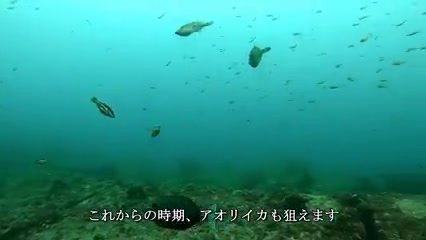kawahagi: (243, 41, 271, 66)
smallfish: (86, 93, 121, 124), (172, 17, 218, 39)
